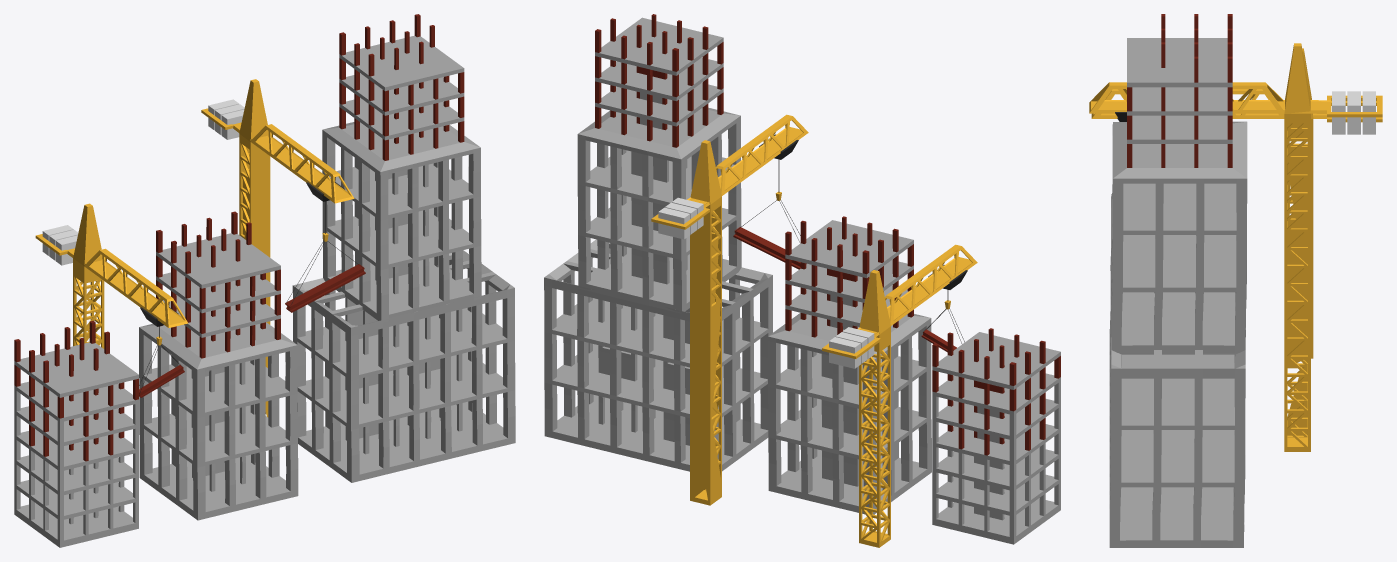
Rendered from BatimentConstruGlobal.fbx.
3 renders of one model, left to right at view 1: azimuth 30°, elevation 25°; view 2: azimuth 150°, elevation 25°; view 3: azimuth 270°, elevation 25°, orthographic. The views are drawn at different scales.
Visible parts, largest first — view 1: BatimentConstru.003, BatimentConstru.001, BatimentConstru, BaseGrue2, BaseGrue1, HautGrue.002, HautGrue, elevateurGrue2, poidsGrue2, poidsGrue1, elevateurGrue1; view 2: BatimentConstru.003, BatimentConstru.001, BatimentConstru, BaseGrue2, BaseGrue1, HautGrue.002, HautGrue, poidsGrue2, poidsGrue1, elevateurGrue2, elevateurGrue1; view 3: BatimentConstru.003, BaseGrue2, HautGrue.002, poidsGrue2, BaseGrue1, HautGrue, BatimentConstru.001.
Part boxes in pixels (<box>): BatimentConstru.003: <box>292,14,515,482</box>; BatimentConstru.001: <box>139,211,298,520</box>; BatimentConstru: <box>14,320,138,547</box>; BaseGrue2: <box>239,79,270,417</box>; BaseGrue1: <box>73,203,104,348</box>; HautGrue.002: <box>201,108,354,203</box>; HautGrue: <box>35,234,188,327</box>; elevateurGrue2: <box>285,178,365,312</box>; poidsGrue2: <box>208,99,244,139</box>; poidsGrue1: <box>42,225,78,265</box>; elevateurGrue1: <box>139,307,184,397</box>; BatimentConstru.003: <box>544,14,772,471</box>; BatimentConstru.001: <box>768,216,931,514</box>; BatimentConstru: <box>932,328,1060,544</box>; BaseGrue2: <box>690,140,721,505</box>; BaseGrue1: <box>859,270,890,547</box>; HautGrue.002: <box>651,114,808,229</box>; HautGrue: <box>822,244,977,358</box>; poidsGrue2: <box>658,197,703,239</box>; poidsGrue1: <box>829,327,874,368</box>; elevateurGrue2: <box>733,134,806,269</box>; elevateurGrue1: <box>921,265,967,352</box>; BatimentConstru.003: <box>1109,14,1247,547</box>; BaseGrue2: <box>1284,43,1310,451</box>; HautGrue.002: <box>1089,82,1382,117</box>; poidsGrue2: <box>1332,91,1375,129</box>; BaseGrue1: <box>1287,48,1313,358</box>; HautGrue: <box>1091,89,1382,122</box>; BatimentConstru.001: <box>1109,194,1112,415</box>.
Size of the model in its own units: 9089 by 7747 by 4437.
